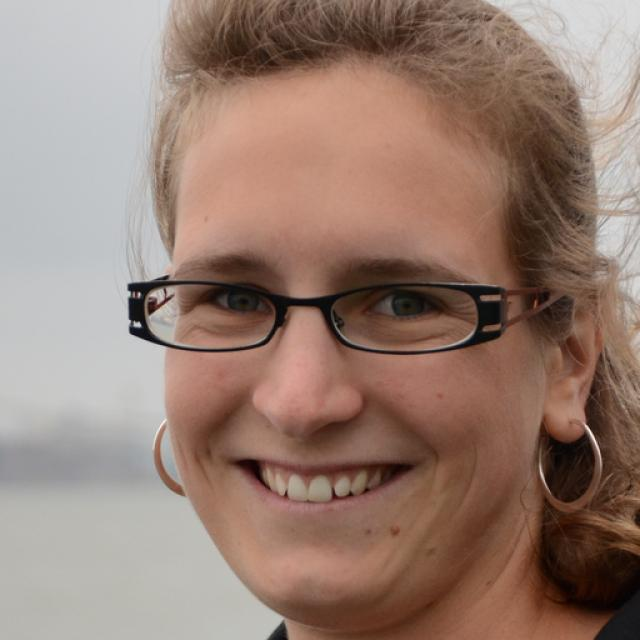Acne: (378, 521, 406, 543), (432, 392, 446, 401)
